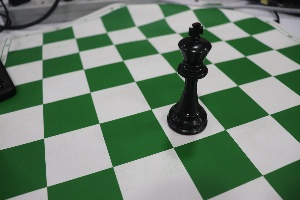black_king: (158, 9, 214, 141)
